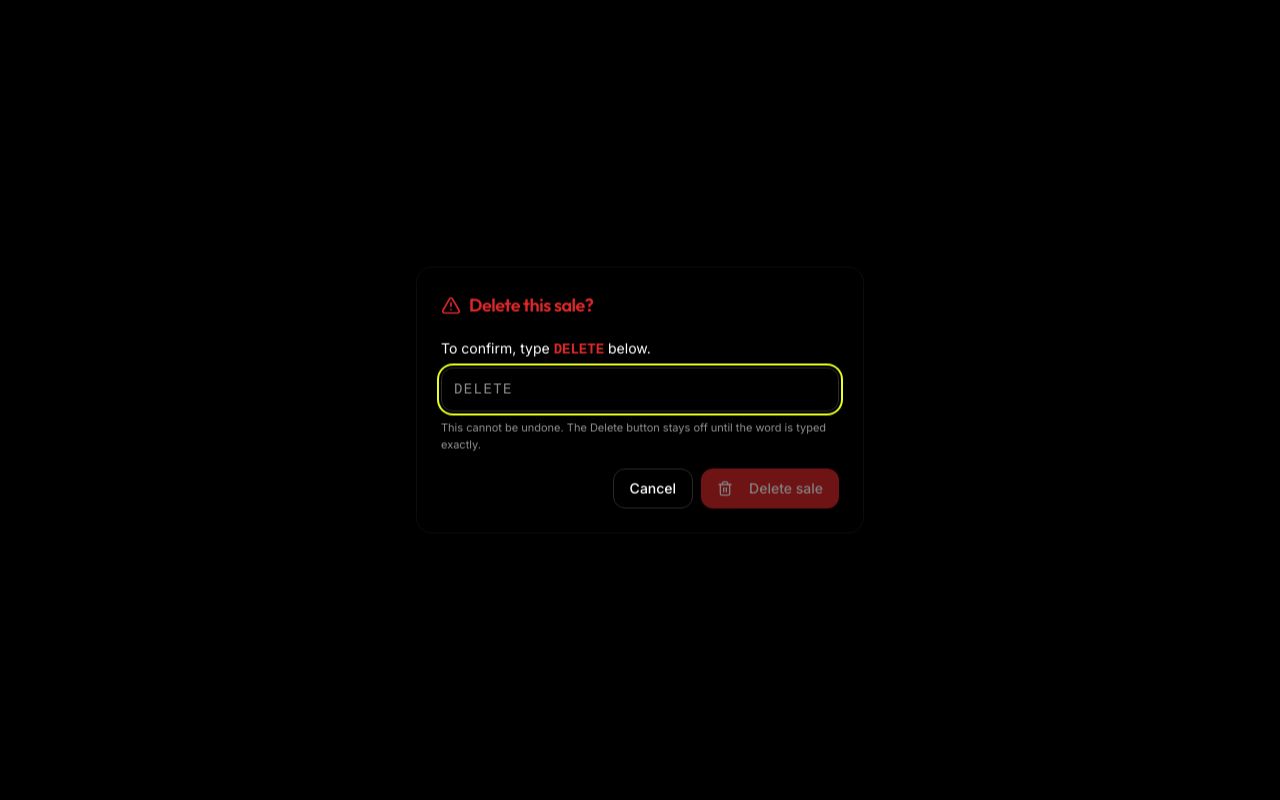
Test: type-to-confirm delete › keeps the Delete button off until DELETE is typed
Later steps or results of the test are not shown.
Check: the button "Delete sale" is disabled, box [701, 468, 839, 508]
Type "dele" into the field with placeholder "DELETE".
click(640, 390); type("dele")  # box [441, 368, 839, 412]
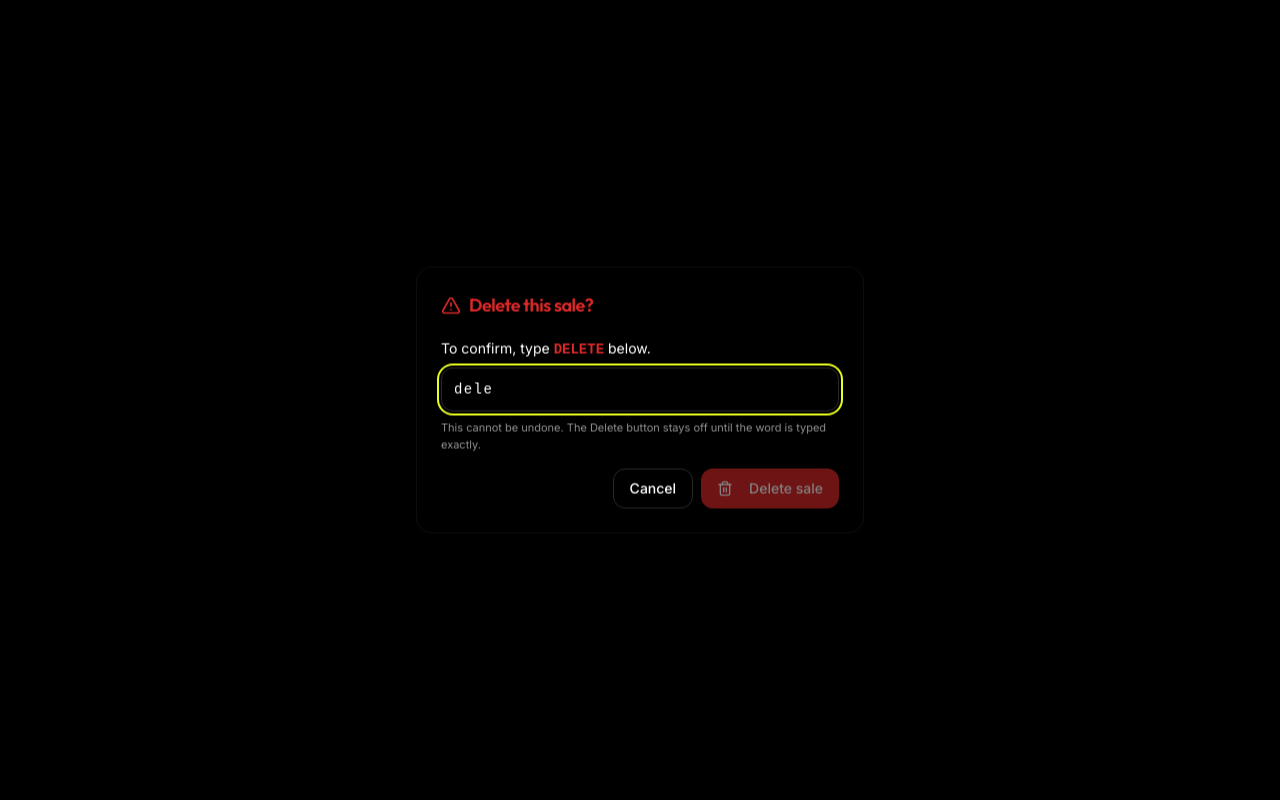
Click the button "Delete sale".
click(770, 488)  # box [701, 468, 839, 508]
Replace the text in the field with placeholder "DELETE" with "DELETE" at (640, 390), box [441, 368, 839, 412]
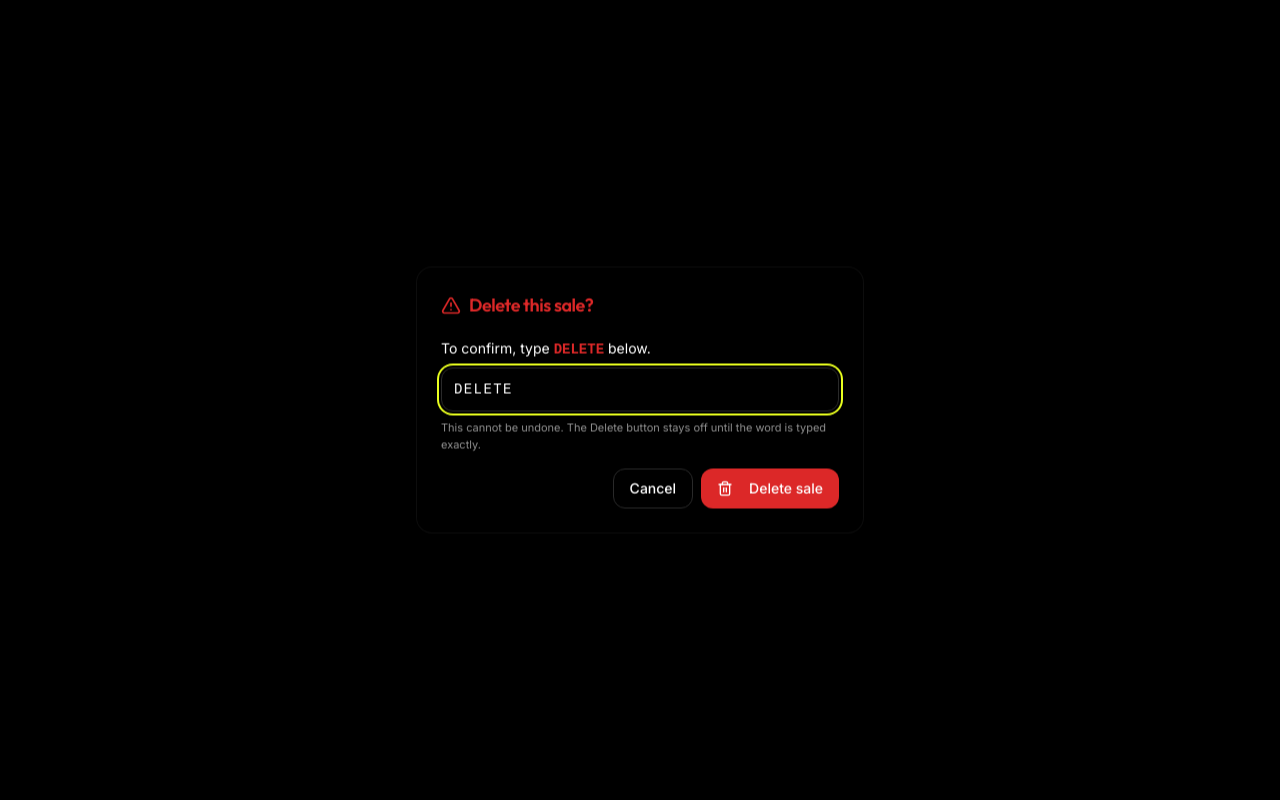
Check: the button "Delete sale" is enabled, box [701, 468, 839, 508]
